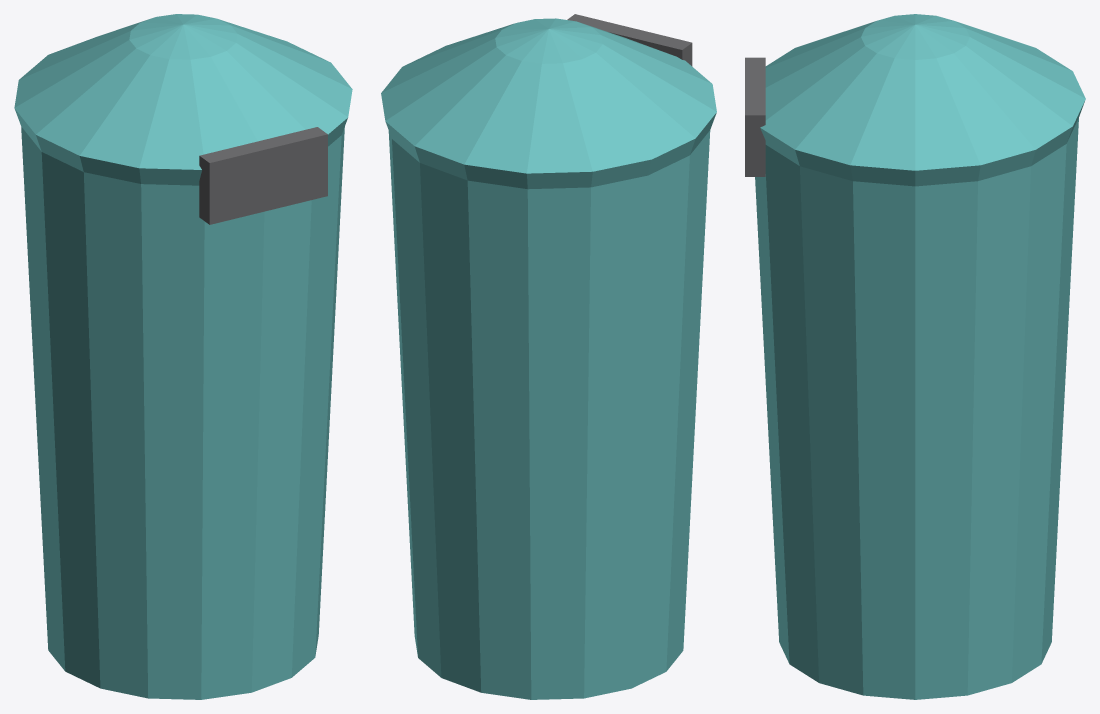
Rendered from trash_bin.glb.
3 views of the same model, side by side, from view 1: azimuth 30°, elevation 25°; view 2: azimuth 150°, elevation 25°; view 3: azimuth 270°, elevation 25° (orthographic).
Visible parts, largest first — view 1: trash_bin_teal, trash_bin_dark; view 2: trash_bin_teal, trash_bin_dark; view 3: trash_bin_teal, trash_bin_dark.
Part boxes in pixels (bbox=[...]): trash_bin_teal: bbox=[14, 14, 352, 699]; trash_bin_dark: bbox=[199, 127, 327, 224]; trash_bin_teal: bbox=[381, 18, 716, 699]; trash_bin_dark: bbox=[567, 14, 692, 66]; trash_bin_teal: bbox=[755, 14, 1085, 699]; trash_bin_dark: bbox=[745, 57, 765, 176].
Bounding box in the file's own units: 0.5 × 1 × 0.5.
